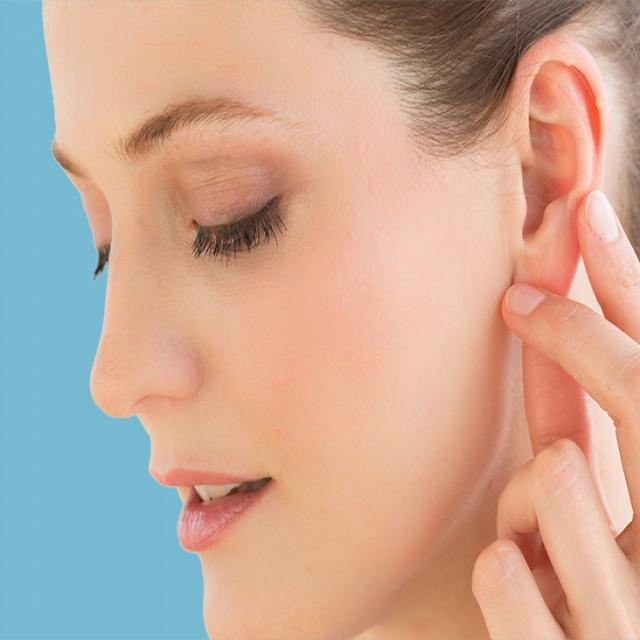earlobe: (515, 232, 566, 306)
eye: (183, 194, 293, 257)
nose: (106, 388, 200, 462)
wholeear: (510, 34, 607, 306)
